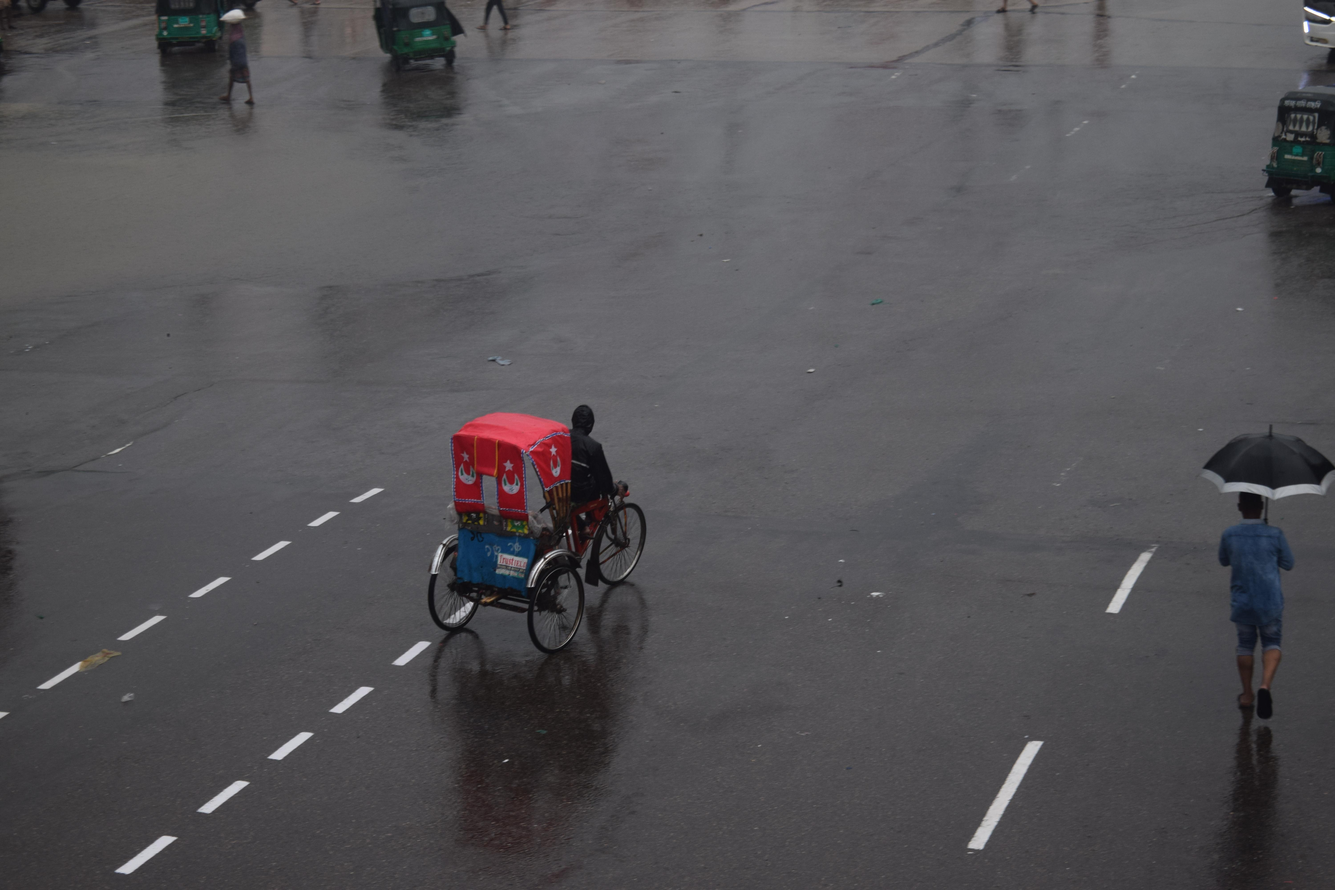Car: (345, 353, 697, 704)
